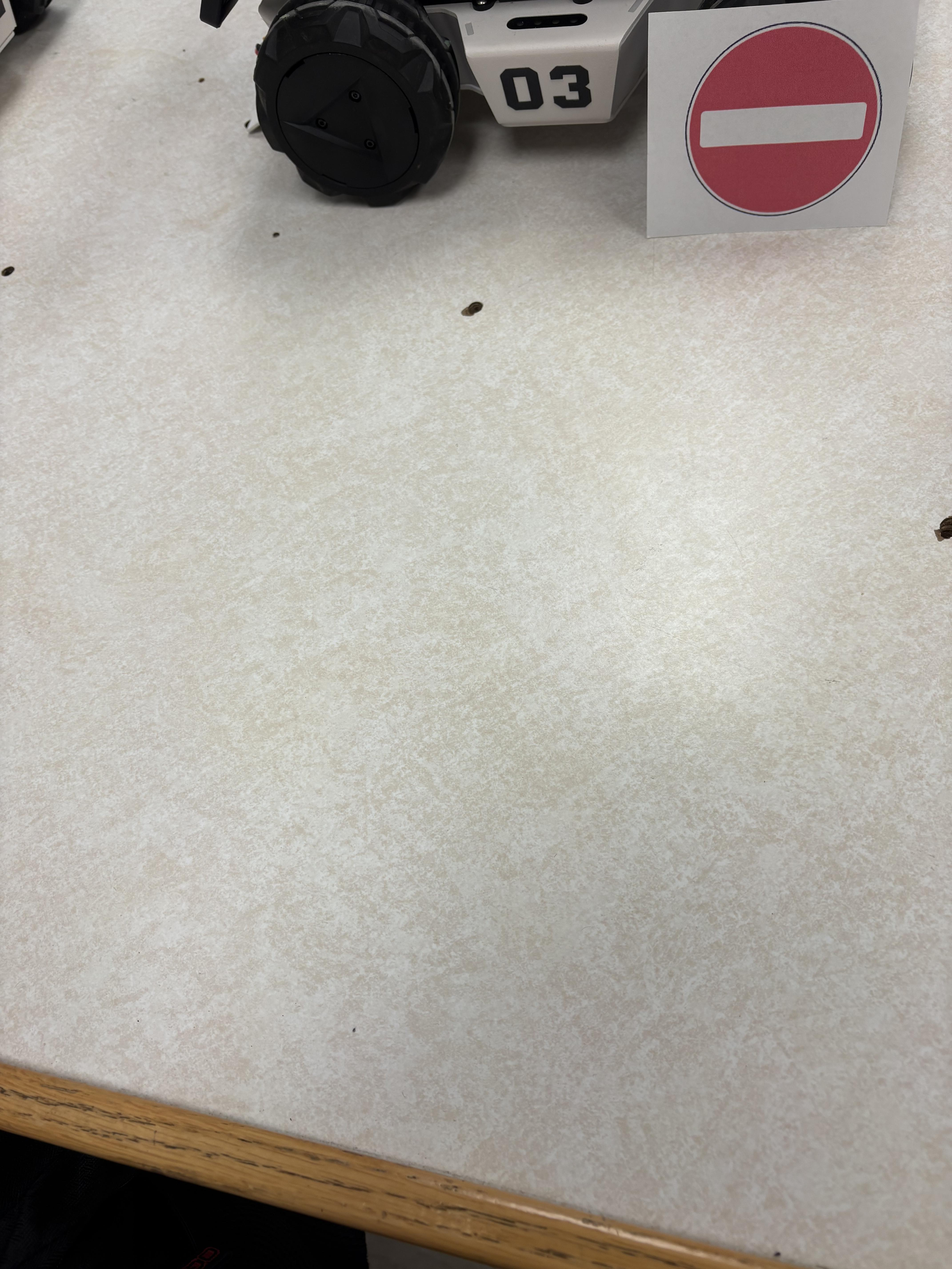No Entry: (483, 0, 687, 337)
